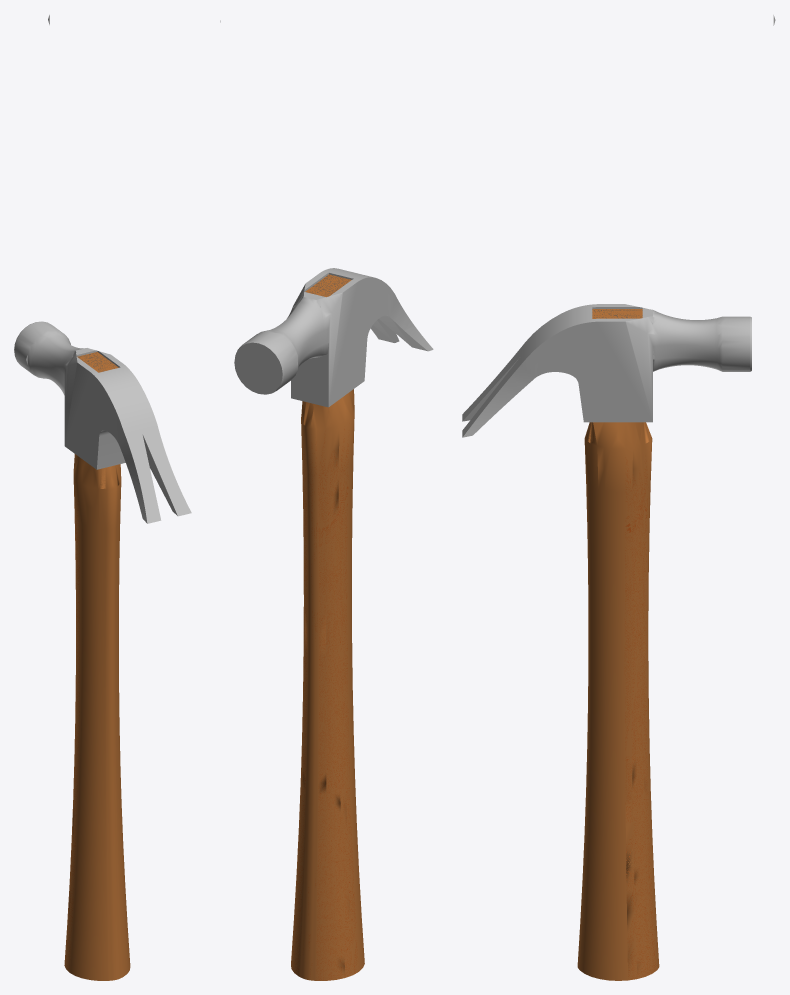
File: Hammer.dae
3 views of the same model, side by side, from view 1: azimuth 30°, elevation 25°; view 2: azimuth 150°, elevation 25°; view 3: azimuth 270°, elevation 25° (orthographic). The views are drawn at different scales.
Parts seen in each view (by area): view 1: SketchUp; view 2: SketchUp; view 3: SketchUp.
Part boxes in pixels (x1,y1,x2,y2): SketchUp: [14, 321, 191, 980]; SketchUp: [234, 268, 433, 980]; SketchUp: [462, 304, 751, 980].
Bounding box in the file's own units: 0.0317 × 0.1434 × 0.4876.
